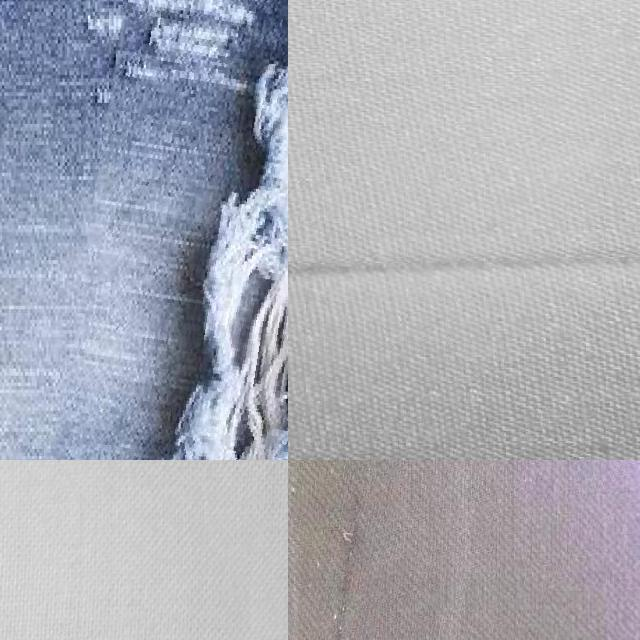Thread_other: (301, 460, 418, 640)
seam: (65, 0, 288, 460)
